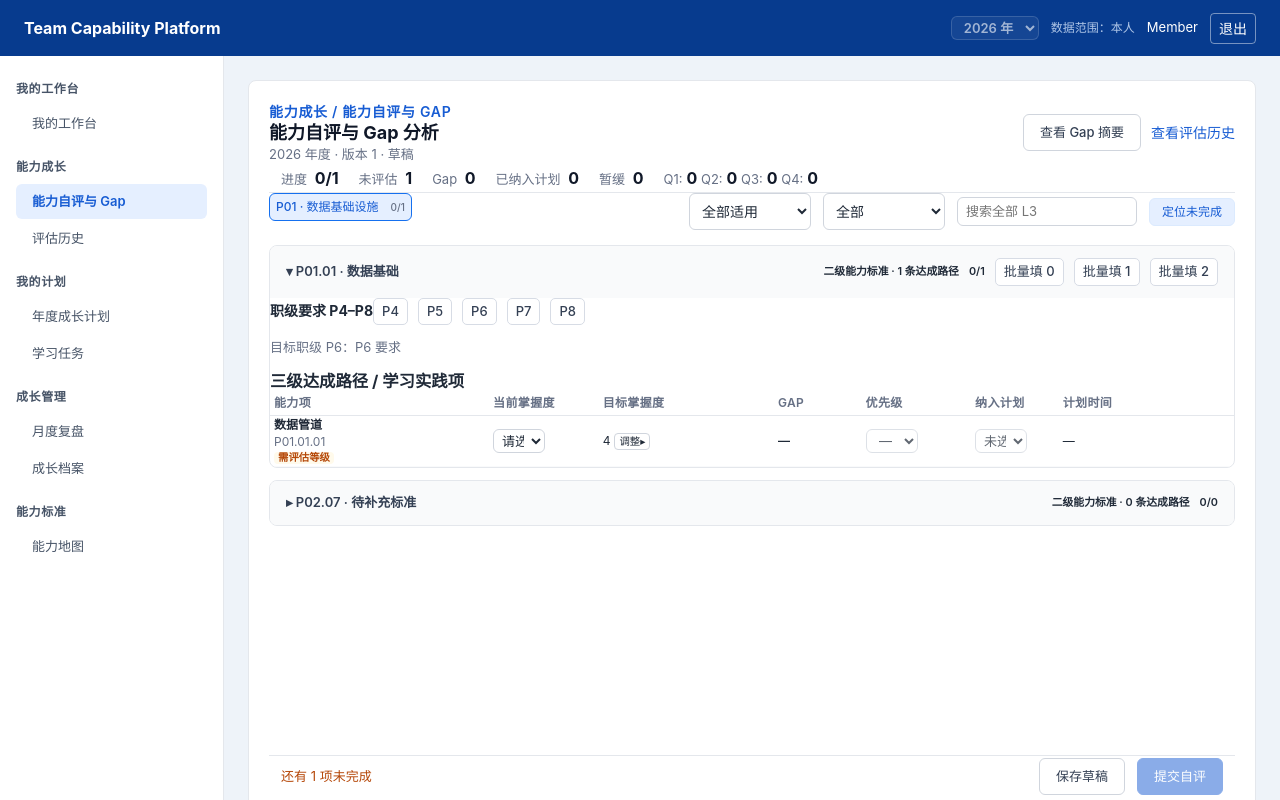
Test: AssessmentGapPage › shows L2 job requirements and keeps an empty L2 visible
Expected: the text "目标职级 P6：P6 要求" is shown, [270,339,401,355]
Click the button "▸ P02.07 · 待补充标准".
click(318, 502)  # box [286,493,1052,513]
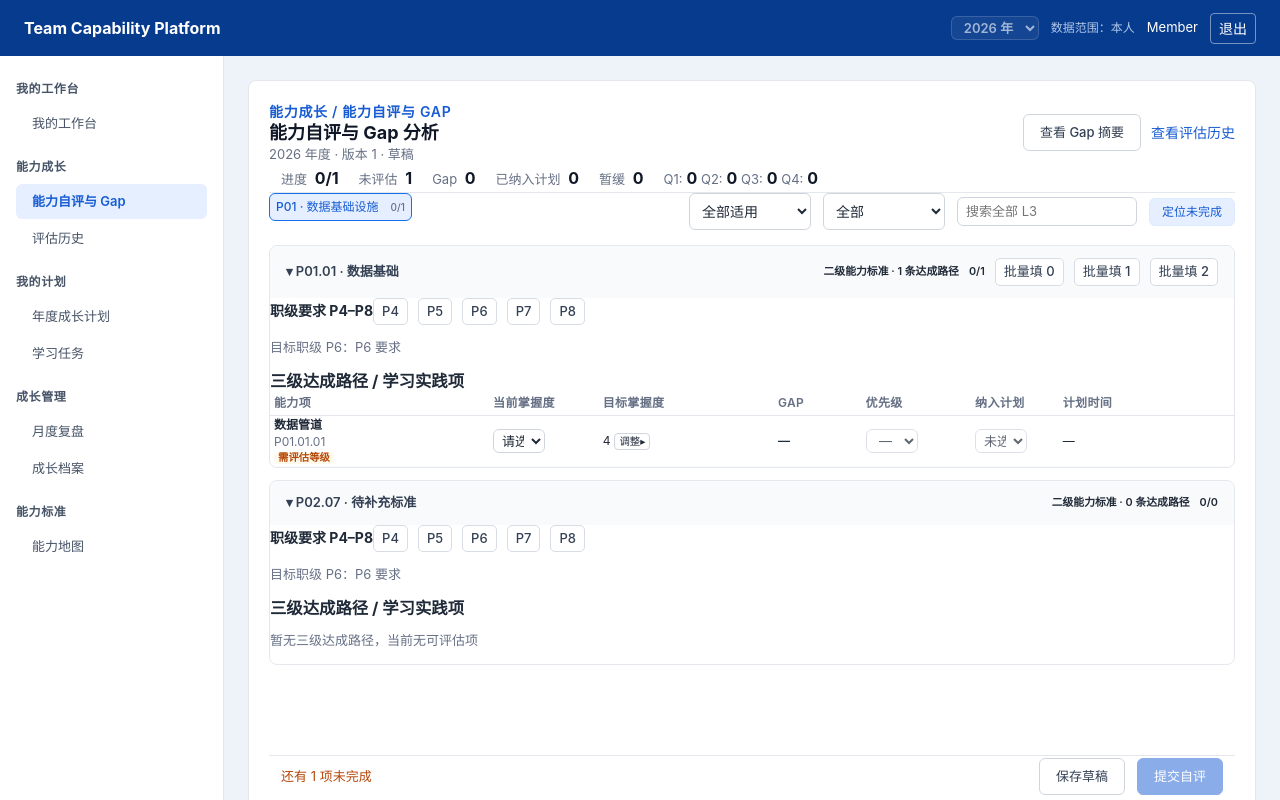
Expected: the text "暂无三级达成路径，当前无可评估项" is shown, [270,632,478,648]
